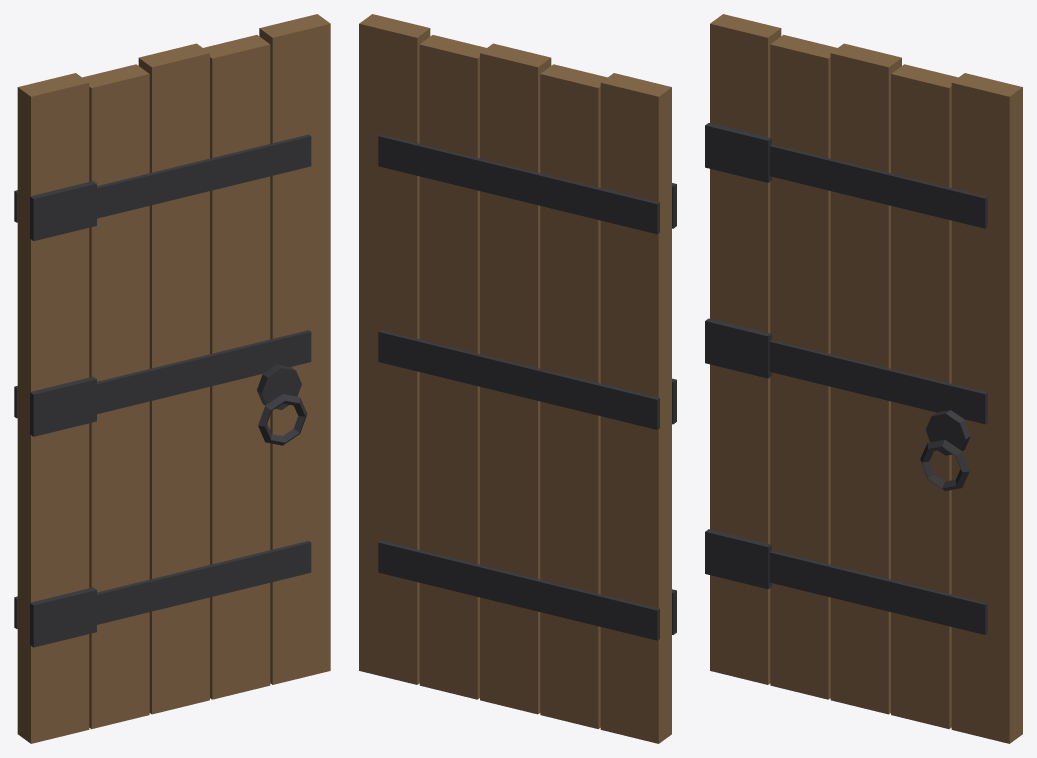
Rendered from door_wood_lod0.glb.
3 views of the same model, side by side, from view 1: azimuth 30°, elevation 25°; view 2: azimuth 150°, elevation 25°; view 3: azimuth 330°, elevation 25° (orthographic).
Parts seen in each view (by area): view 1: door_wood; view 2: door_wood; view 3: door_wood.
Boxes of the visible parts, x1=… form: door_wood: x1=14, y1=14, x2=330, y2=743; door_wood: x1=359, y1=14, x2=676, y2=743; door_wood: x1=705, y1=14, x2=1022, y2=743.
Bounding box in the file's own units: 1.05 × 2.15 × 0.161.
